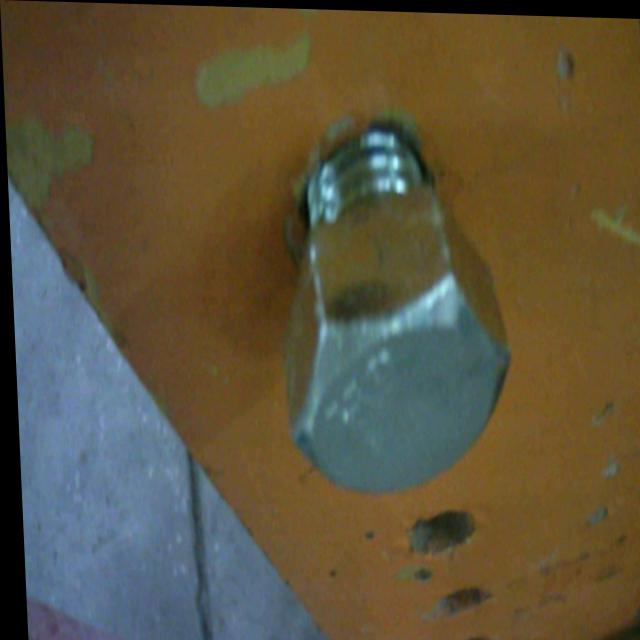Loose bolt: (273, 125, 516, 499)
Missing bolt: (407, 506, 473, 554), (430, 581, 485, 620), (445, 629, 489, 640)
